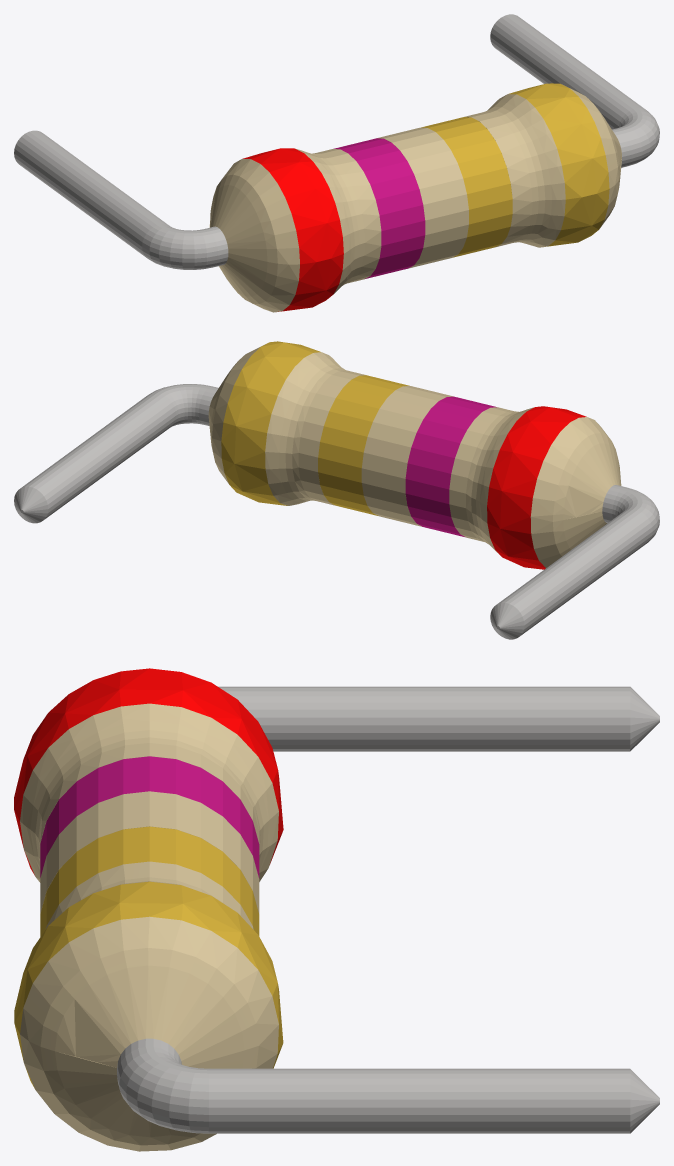
The model's file is Yageo CFR-25 Resistor Axial P7.62mm 2,7 Ohm.obj.
3 views of the same model, one above another, from view 1: azimuth 30°, elevation 25°; view 2: azimuth 150°, elevation 25°; view 3: azimuth 270°, elevation 25° (orthographic). The views are drawn at different scales.
Parts seen in each view (by area): view 1: Yageo_CFR-25_Resistor_Axial_P7.62mm_2,7_Ohm; view 2: Yageo_CFR-25_Resistor_Axial_P7.62mm_2,7_Ohm; view 3: Yageo_CFR-25_Resistor_Axial_P7.62mm_2,7_Ohm.
Part boxes in pixels (x1,y1,x2,y2): Yageo_CFR-25_Resistor_Axial_P7.62mm_2,7_Ohm: (14,14,659,312); Yageo_CFR-25_Resistor_Axial_P7.62mm_2,7_Ohm: (14,341,659,639); Yageo_CFR-25_Resistor_Axial_P7.62mm_2,7_Ohm: (14,668,659,1151).
Size of the model in its own units: 0.0187 by 0.00515 by 0.0124.
